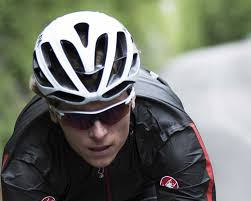helmet: (31, 12, 139, 107)
